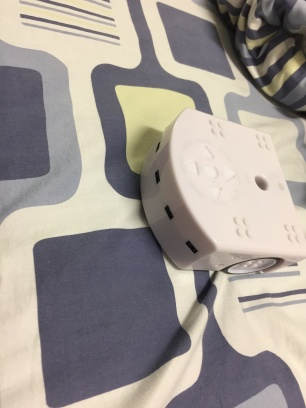thymio: (139, 106, 306, 284)
